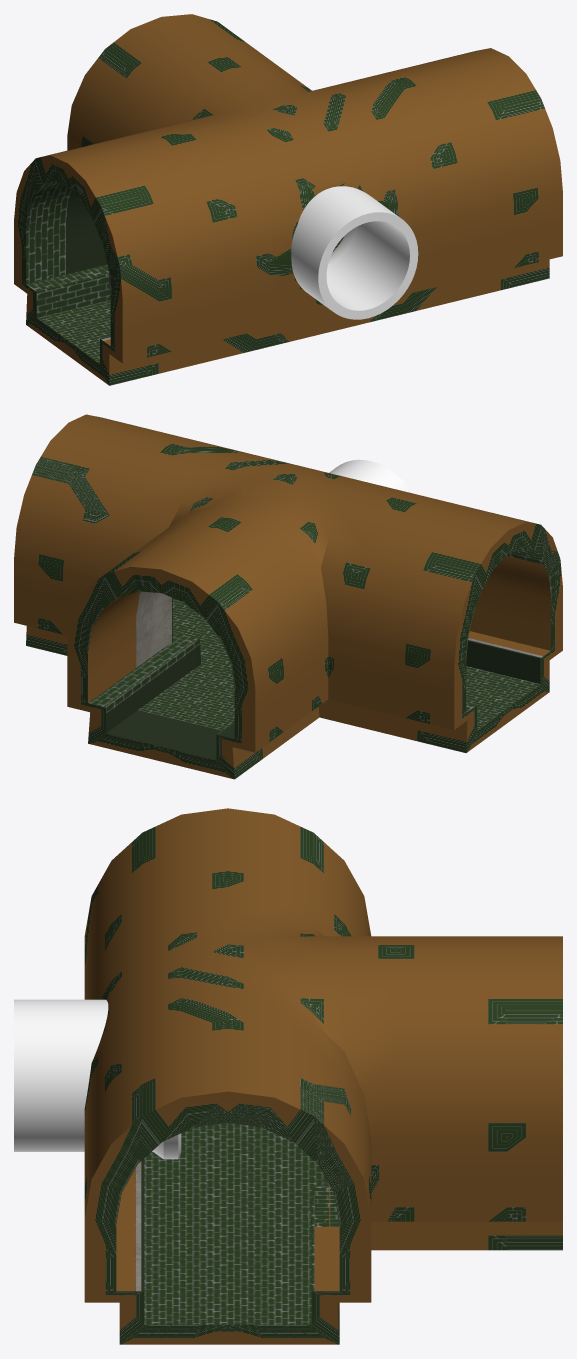
Rendered from SewerModules_T-shape.fbx.
3 renders of one model, top to bottom at view 1: azimuth 30°, elevation 25°; view 2: azimuth 150°, elevation 25°; view 3: azimuth 270°, elevation 25°, orthographic. The views are drawn at different scales.
Visible parts, largest first — view 1: Module_Circular_Pipe_UVDone.014; view 2: Module_Circular_Pipe_UVDone.014; view 3: Module_Circular_Pipe_UVDone.014.
Part boxes in pixels (<box>): Module_Circular_Pipe_UVDone.014: <box>14,14,562,385</box>; Module_Circular_Pipe_UVDone.014: <box>14,414,562,779</box>; Module_Circular_Pipe_UVDone.014: <box>14,808,562,1344</box>.
Bounding box in the file's own units: 2400 × 1001 × 1967.
